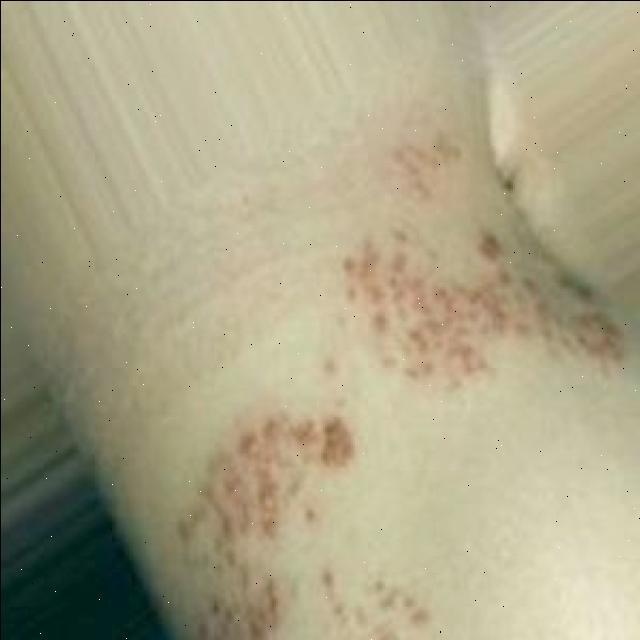Shingles: (326, 128, 628, 389), (178, 405, 436, 640)
